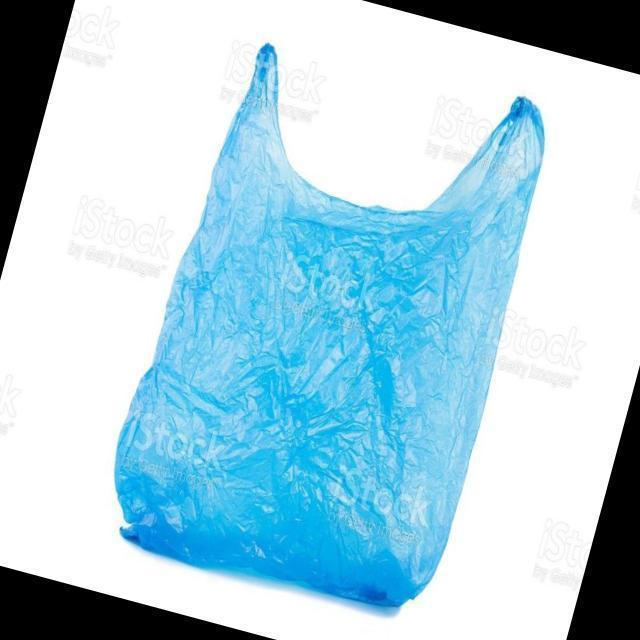KantongPlastik: (112, 41, 547, 609)
